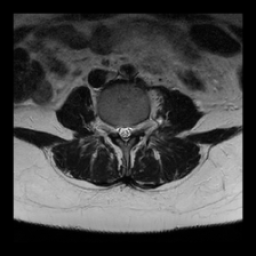CCS_normal: (120, 118, 126, 149)
LFS_normal: (133, 114, 140, 138)
LLS_normal: (126, 118, 133, 142)
RFS_normal: (108, 117, 114, 139)
RLS_normal: (114, 117, 120, 141)
